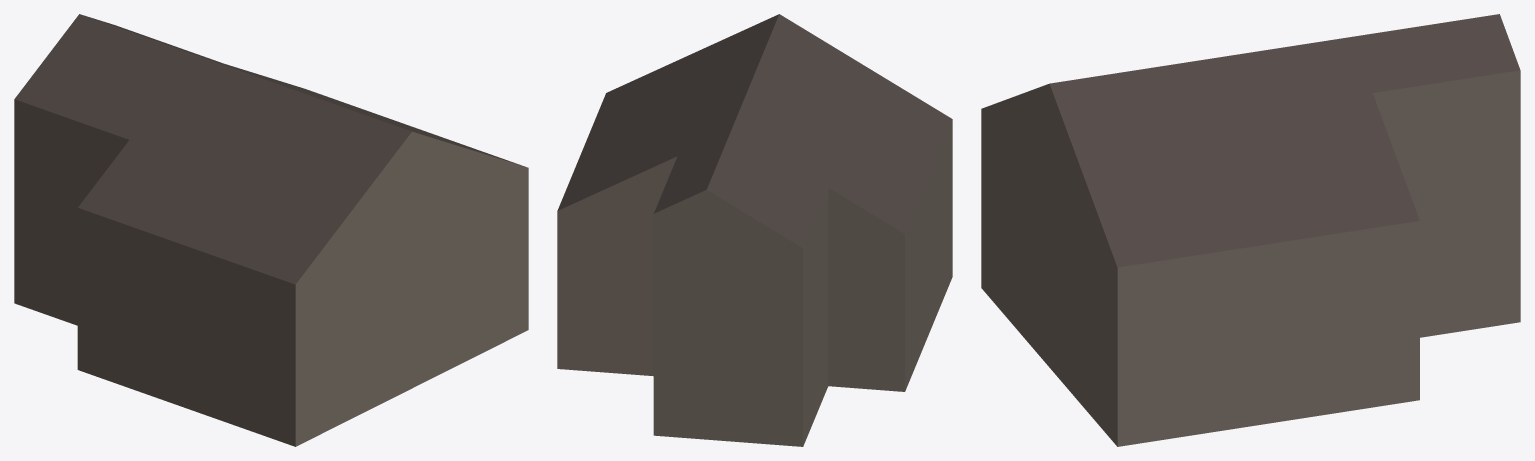
3 renders of one model, left to right at view 1: azimuth 30°, elevation 25°; view 2: azimuth 150°, elevation 25°; view 3: azimuth 270°, elevation 25°, orthographic. The views are drawn at different scales.
Visible parts, largest first — view 1: HP-w1376988769; view 2: HP-w1376988769; view 3: HP-w1376988769.
Boxes of the visible parts, x1,y1,x2,y2 form: HP-w1376988769: [14, 14, 528, 446]; HP-w1376988769: [557, 14, 952, 446]; HP-w1376988769: [981, 14, 1520, 446].
Bounding box in the file's own units: 14.66 × 9.5 × 16.34.
